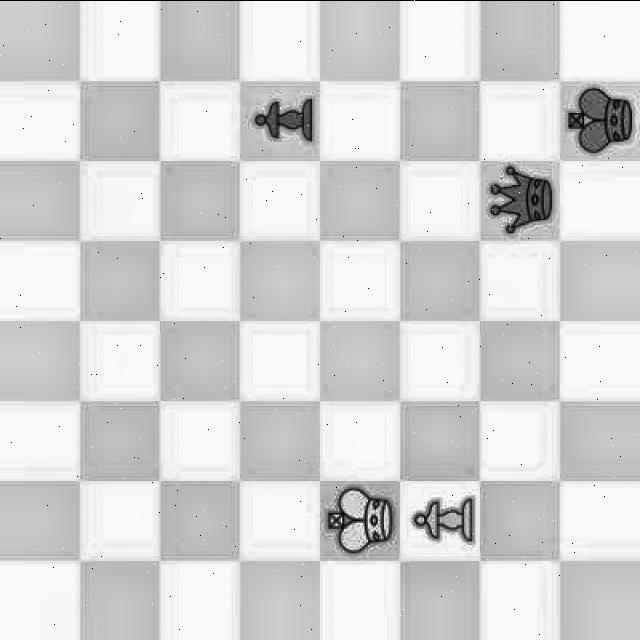black king: (562, 86, 638, 160)
black pawn: (242, 82, 318, 160)
black queen: (476, 161, 558, 243)
white king: (322, 486, 394, 564)
white pawn: (405, 484, 475, 552)
